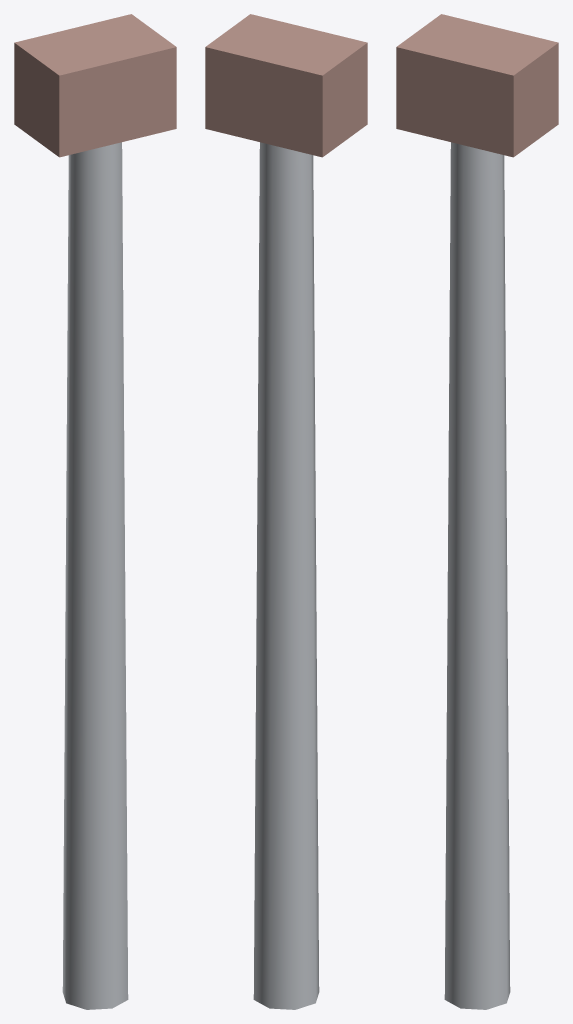
The model's file is prop.glb.
3 views of the same model, side by side, from view 1: azimuth 30°, elevation 25°; view 2: azimuth 150°, elevation 25°; view 3: azimuth 330°, elevation 25° (orthographic).
Parts seen in each view (by area): view 1: Metal, Cloth; view 2: Metal, Cloth; view 3: Metal, Cloth.
Part boxes in pixels (x1,y1,x2,y2): Metal: (62,142,128,1009); Cloth: (14,14,176,157); Metal: (253,142,319,1009); Cloth: (205,14,367,157); Metal: (444,142,510,1009); Cloth: (396,14,558,157).
Bounding box in the file's own units: 0.06 × 0.465 × 0.04.
